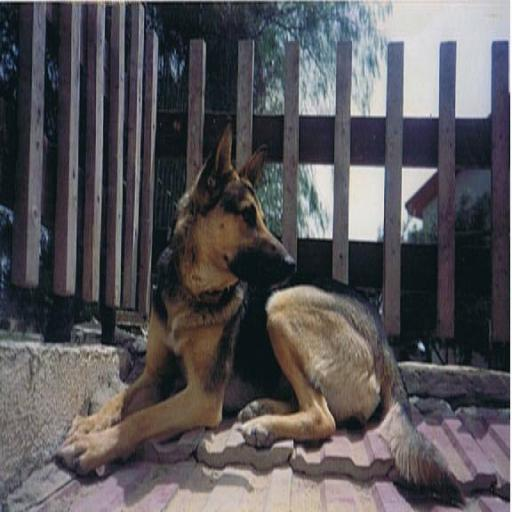dog_face: (203, 144, 297, 286)
